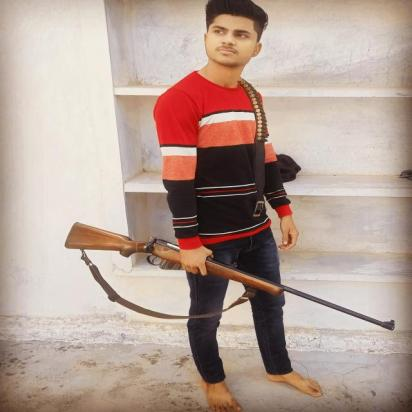Gun: (62, 219, 398, 333)
